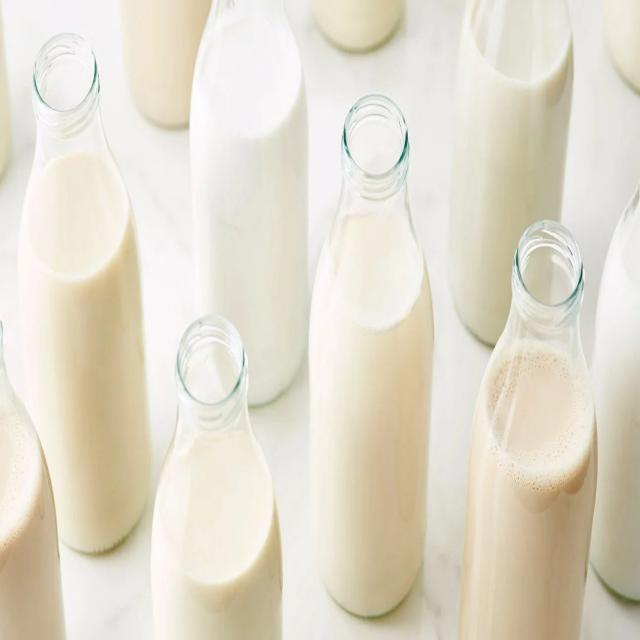milk: (21, 158, 158, 572), (307, 216, 435, 619), (447, 26, 570, 357), (461, 348, 600, 640), (152, 442, 283, 640), (1, 428, 68, 640)
